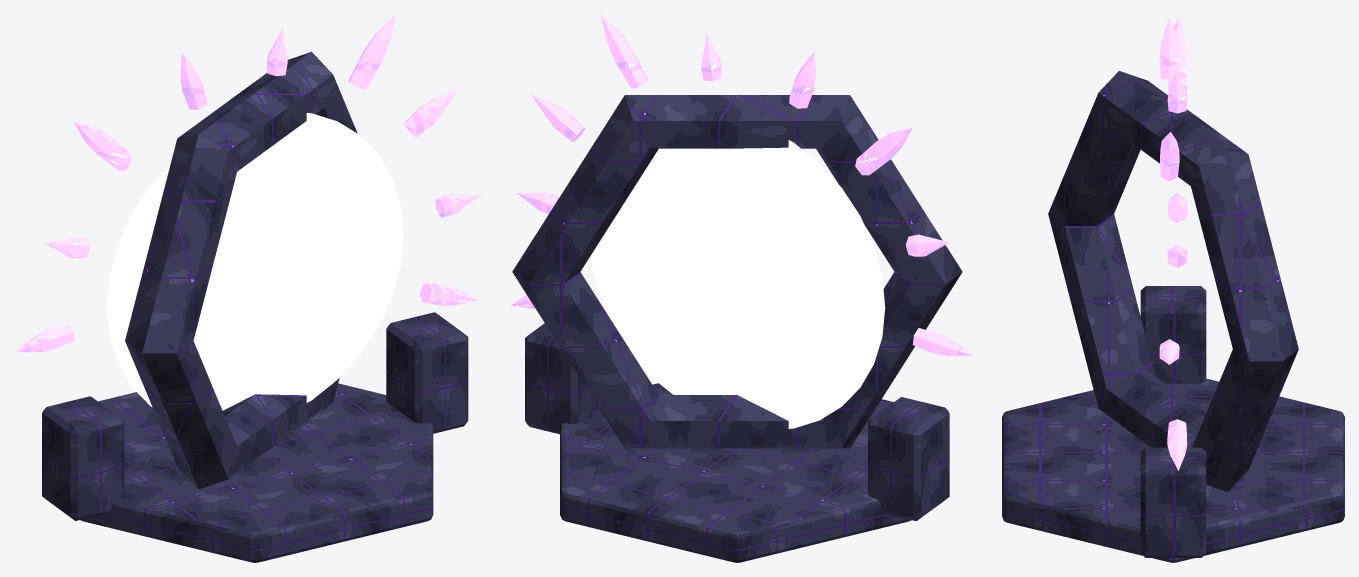
File: psy_portal.glb
3 views of the same model, side by side, from view 1: azimuth 30°, elevation 25°; view 2: azimuth 150°, elevation 25°; view 3: azimuth 270°, elevation 25° (orthographic). The views are drawn at different scales.
Visible parts, largest first — view 1: Disc, Ring, Base, Feet, Spikes; view 2: Disc, Ring, Base, Feet, Spikes; view 3: Ring, Base, Feet, Spikes.
Boxes of the visible parts, x1,y1,x2,y2 form: Disc: (107, 113, 403, 410); Ring: (125, 51, 357, 489); Base: (80, 383, 433, 562); Feet: (42, 312, 468, 520); Spikes: (14, 14, 481, 352); Disc: (591, 140, 885, 428); Ring: (512, 95, 962, 448); Base: (560, 383, 911, 562); Feet: (525, 323, 949, 521); Spikes: (510, 14, 973, 356); Ring: (1048, 71, 1298, 491); Base: (1002, 378, 1344, 562); Feet: (1140, 286, 1206, 557); Spikes: (1159, 14, 1187, 470).
Size of the model in its own units: 7.83 by 7.2 by 5.2.
Materials: 3 (2 with a texture image).
